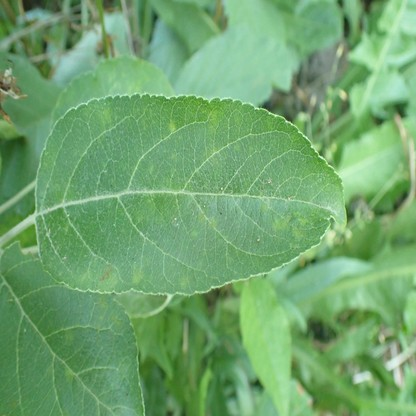powdery_mildew: (320, 200, 338, 214)
scab: (137, 194, 195, 224), (273, 213, 308, 240), (203, 112, 223, 156), (99, 265, 113, 280), (133, 266, 143, 284), (64, 330, 75, 346), (98, 293, 108, 307), (94, 319, 102, 335), (65, 368, 73, 383), (111, 314, 121, 326), (105, 107, 112, 120), (199, 209, 206, 221), (168, 122, 175, 133), (147, 164, 155, 173), (233, 144, 241, 153), (182, 278, 189, 288), (209, 220, 216, 229), (260, 203, 267, 211)
